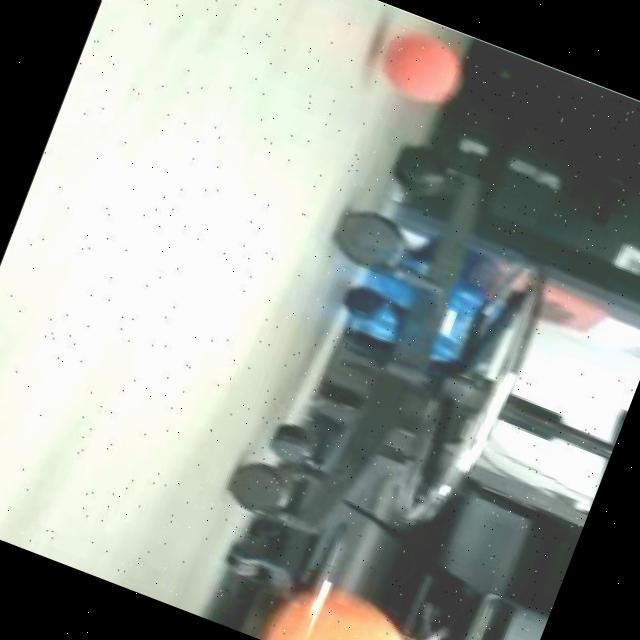ping-pong-ball: (254, 569, 457, 640), (366, 20, 474, 114)
